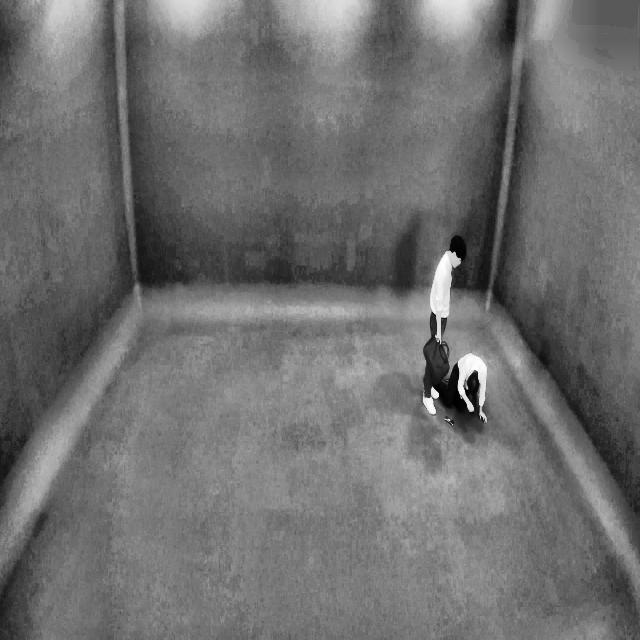assult: (420, 216, 503, 429), (422, 317, 504, 415)
